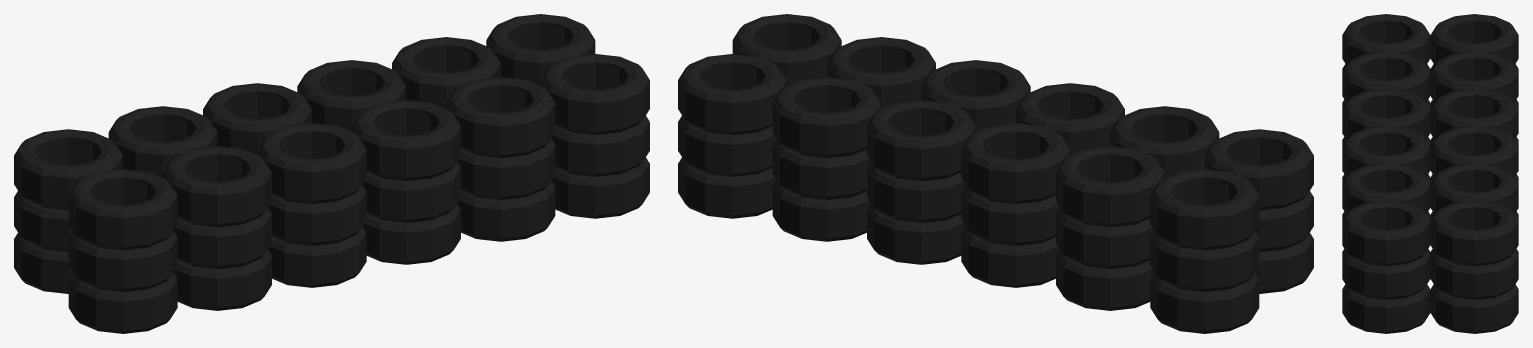
Rendered from LP_Tire Barrier_01.fbx.
3 views of the same model, side by side, from view 1: azimuth 30°, elevation 25°; view 2: azimuth 150°, elevation 25°; view 3: azimuth 270°, elevation 25° (orthographic). The views are drawn at different scales.
Parts seen in each view (by area): view 1: LP_Tire Barrier_01; view 2: LP_Tire Barrier_01; view 3: LP_Tire Barrier_01.
Part boxes in pixels (bbox=[...]): LP_Tire Barrier_01: bbox=[14, 14, 649, 333]; LP_Tire Barrier_01: bbox=[678, 14, 1313, 333]; LP_Tire Barrier_01: bbox=[1342, 14, 1518, 333].
Bounding box in the file's own units: 4.79 × 1.01 × 1.6.
